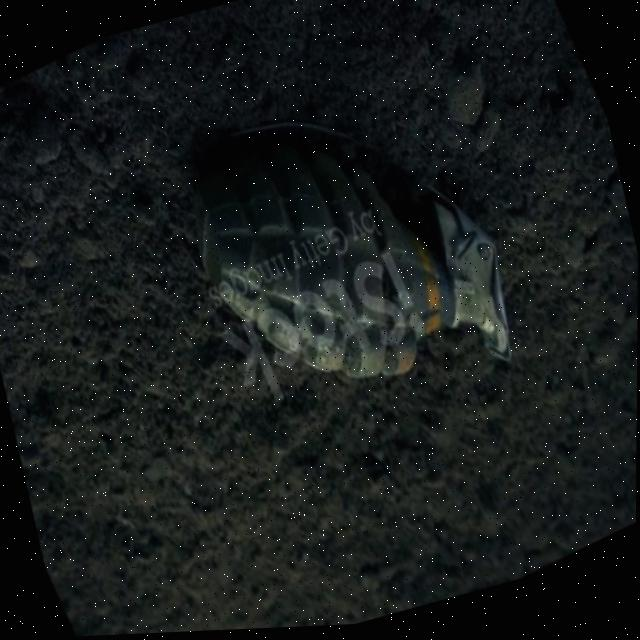grenade: (136, 30, 553, 488)
